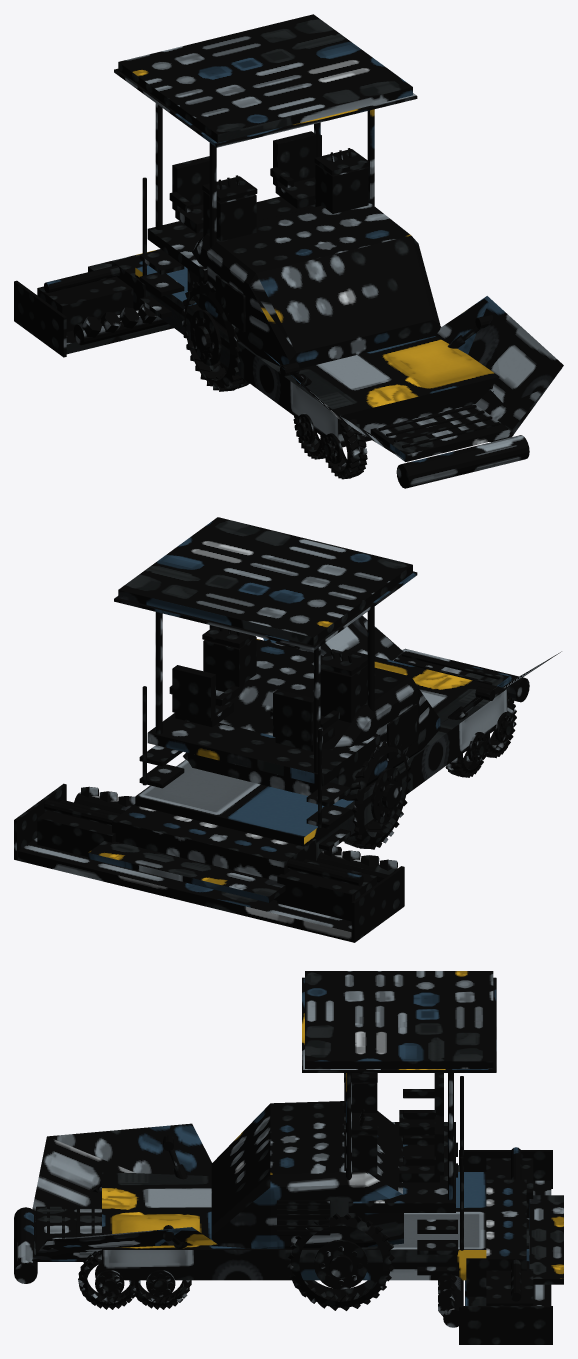
The model's file is asphalt_paver.obj.
3 views of the same model, one above another, from view 1: azimuth 30°, elevation 25°; view 2: azimuth 150°, elevation 25°; view 3: azimuth 270°, elevation 25° (orthographic). The views are drawn at different scales.
Visible parts, largest first — view 1: asphalt_paver; view 2: asphalt_paver; view 3: asphalt_paver.
Part boxes in pixels (box(x1,y1,x2,y2)): asphalt_paver: box(14, 14, 563, 488); asphalt_paver: box(14, 517, 561, 942); asphalt_paver: box(14, 971, 563, 1344).
Size of the model in its own units: 4.74 by 3.61 by 7.01.
Materials: 1 (1 with a texture image).
